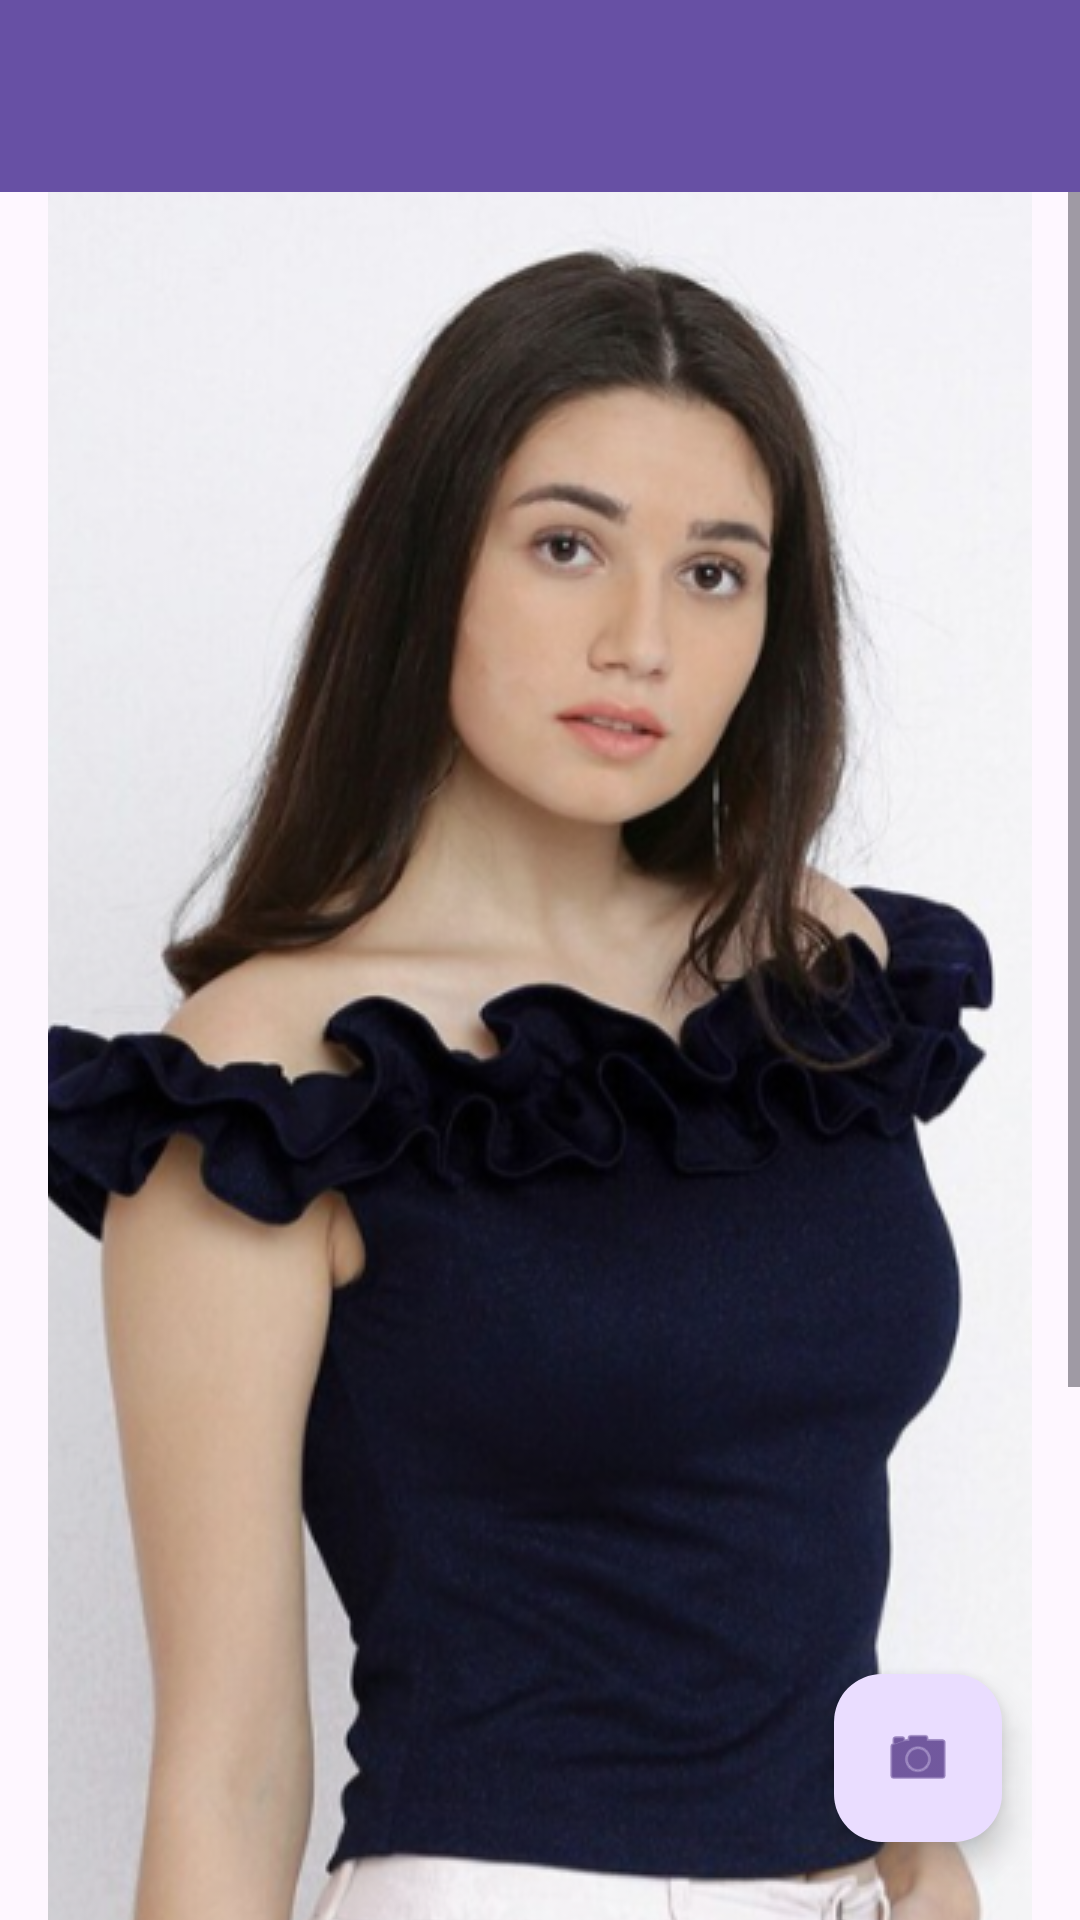

Icons on this 1080x1920 Android screen, each with the point to tap as (x,y):
camera: (918,1758)
